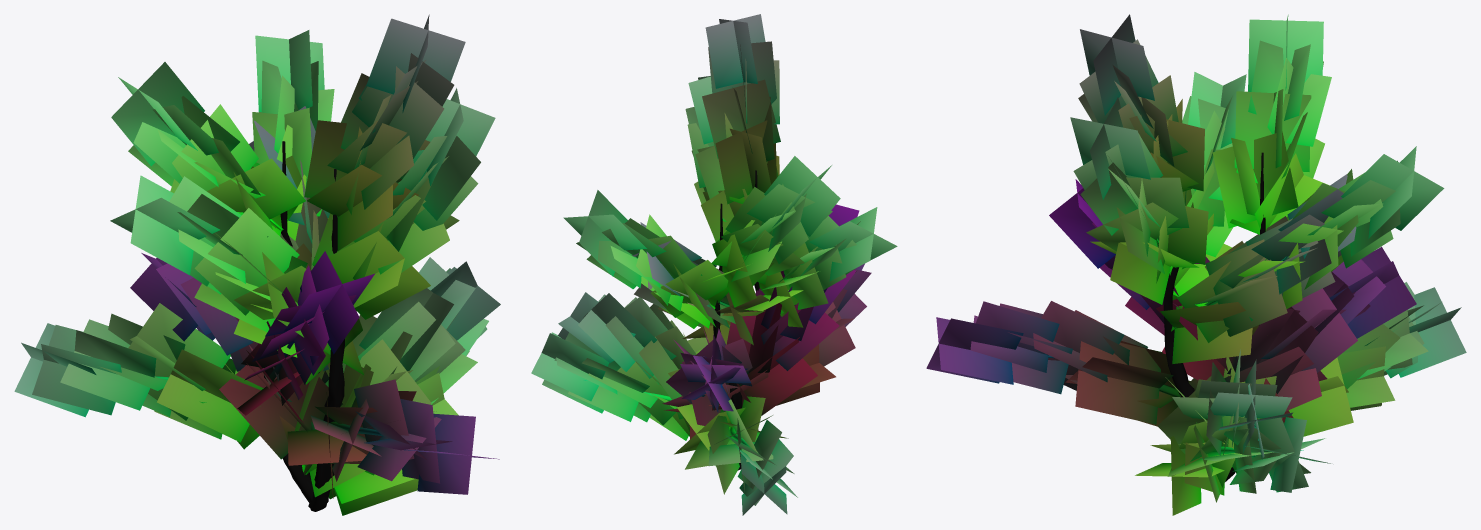
The model's file is M_P6_Tree_12.fbx.
3 renders of one model, left to right at view 1: azimuth 30°, elevation 25°; view 2: azimuth 150°, elevation 25°; view 3: azimuth 270°, elevation 25°, orthographic. The views are drawn at different scales.
Visible parts, largest first — view 1: Tree_12; view 2: Tree_12; view 3: Tree_12.
Boxes of the visible parts, x1,y1,x2,y2 form: Tree_12: [14, 14, 500, 515]; Tree_12: [531, 14, 897, 515]; Tree_12: [926, 14, 1466, 515].
Size of the model in its own units: 904 by 1113 by 1103.
